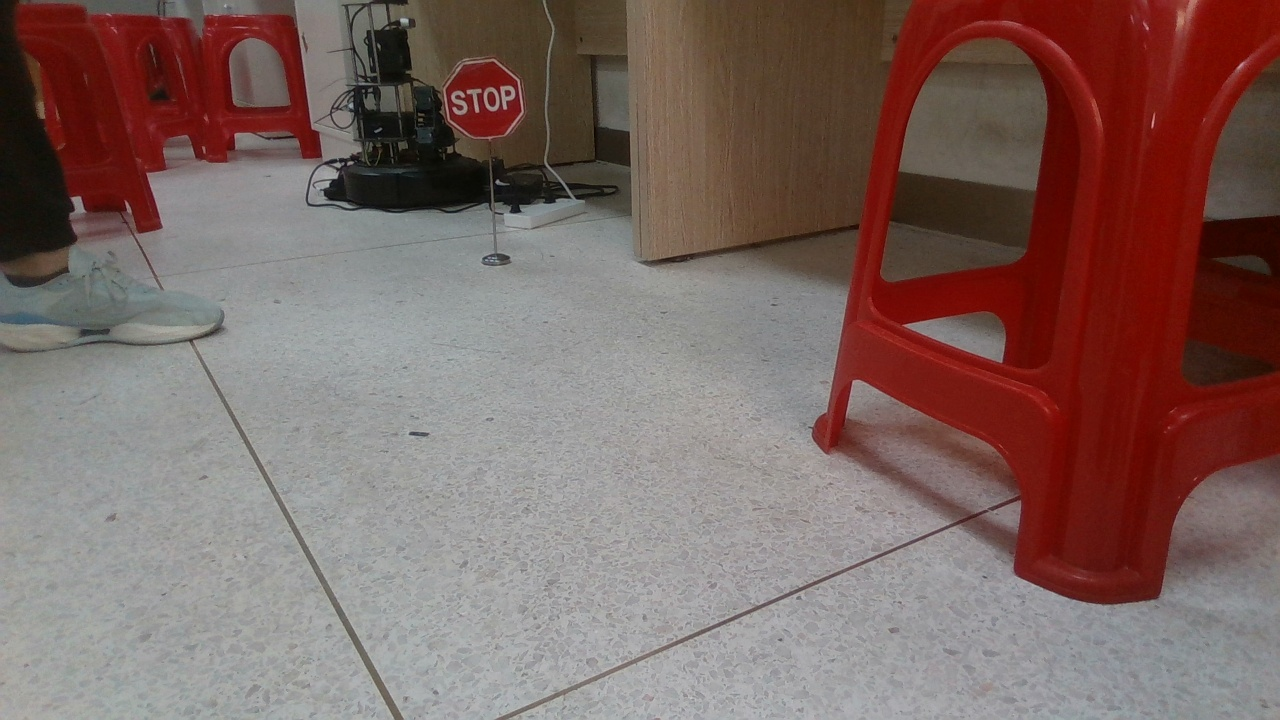Stop sign: (437, 58, 531, 145)
